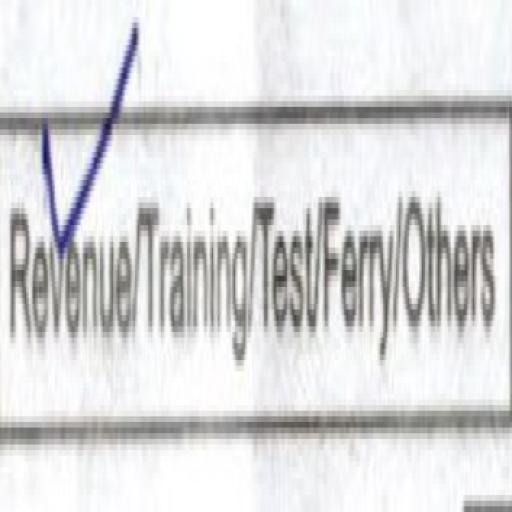check: (2, 17, 138, 484)
